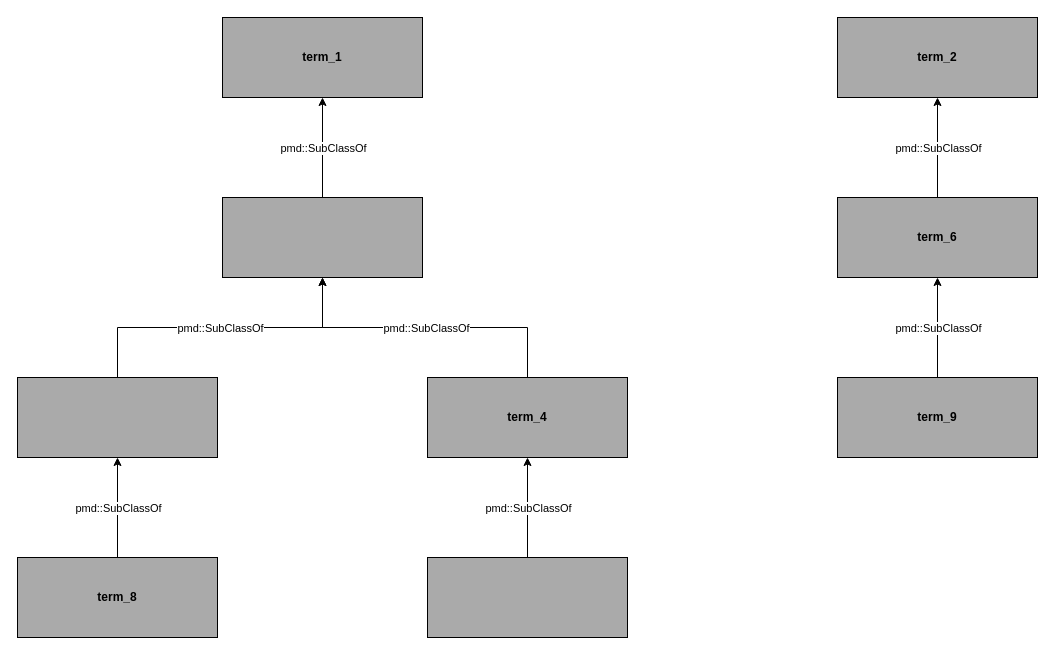
Image size: 1055x655. Some labels were removed from this diagram. The centre of each missing label's shape, as x and y in pixels:
term_3: the point at 322,237
term_5: the point at 117,417
term_7: the point at 527,597
